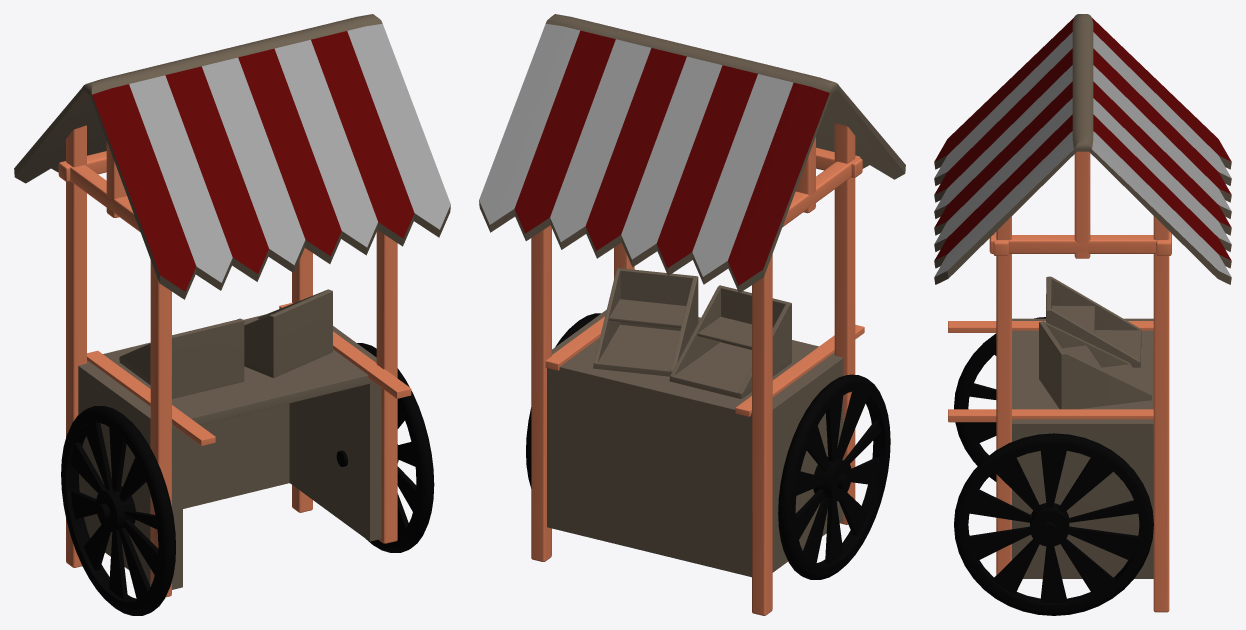
Rendered from shop.glb.
3 views of the same model, side by side, from view 1: azimuth 30°, elevation 25°; view 2: azimuth 150°, elevation 25°; view 3: azimuth 270°, elevation 25° (orthographic). The views are drawn at different scales.
Parts seen in each view (by area): view 1: pCylinder9_wheels_0.004; view 2: pCylinder9_wheels_0.004; view 3: pCylinder9_wheels_0.004.
Boxes of the visible parts, bbox=[...] form: pCylinder9_wheels_0.004: bbox=[14, 14, 450, 615]; pCylinder9_wheels_0.004: bbox=[479, 14, 905, 615]; pCylinder9_wheels_0.004: bbox=[934, 14, 1231, 615].
Bounding box in the file's own units: 0.3971 × 0.6763 × 0.3789.
